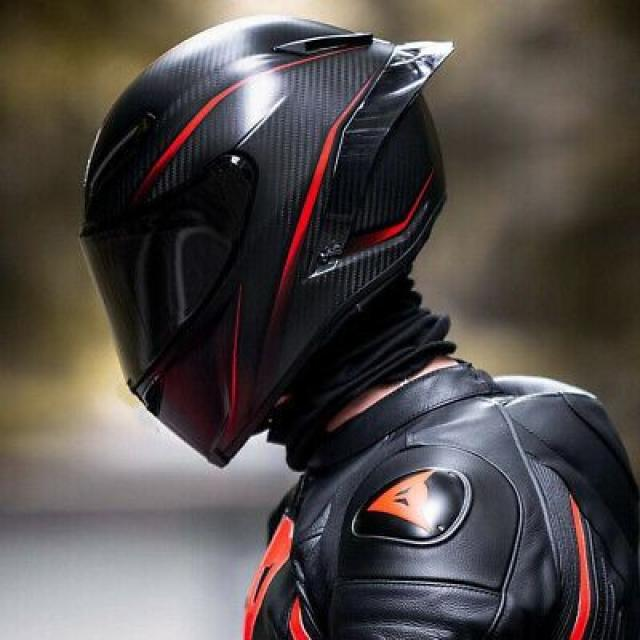Helm: (70, 12, 457, 472)
